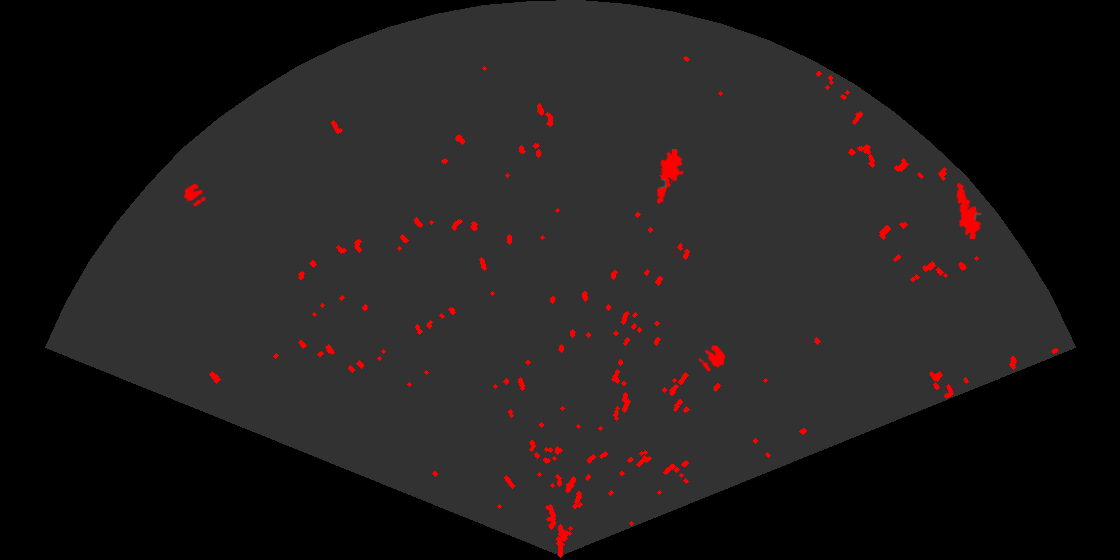ball: (697, 343, 727, 373), (182, 182, 208, 208)
frogman: (655, 149, 686, 205), (955, 181, 983, 239)
